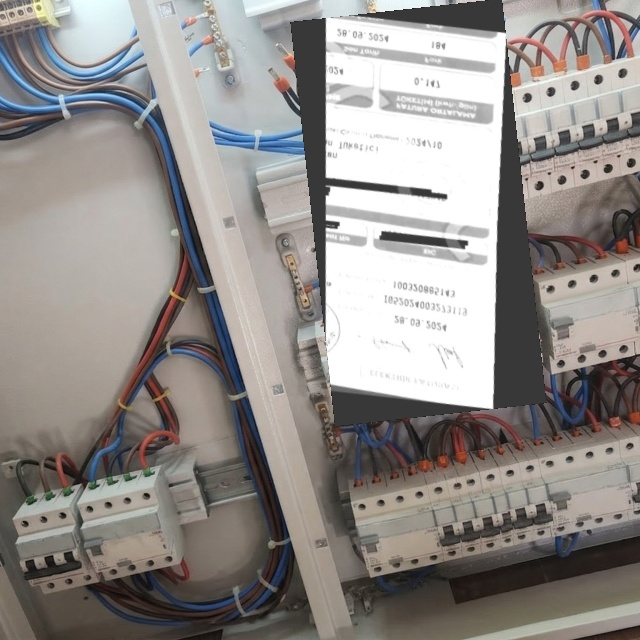electricity-bill: (290, 0, 546, 425)
